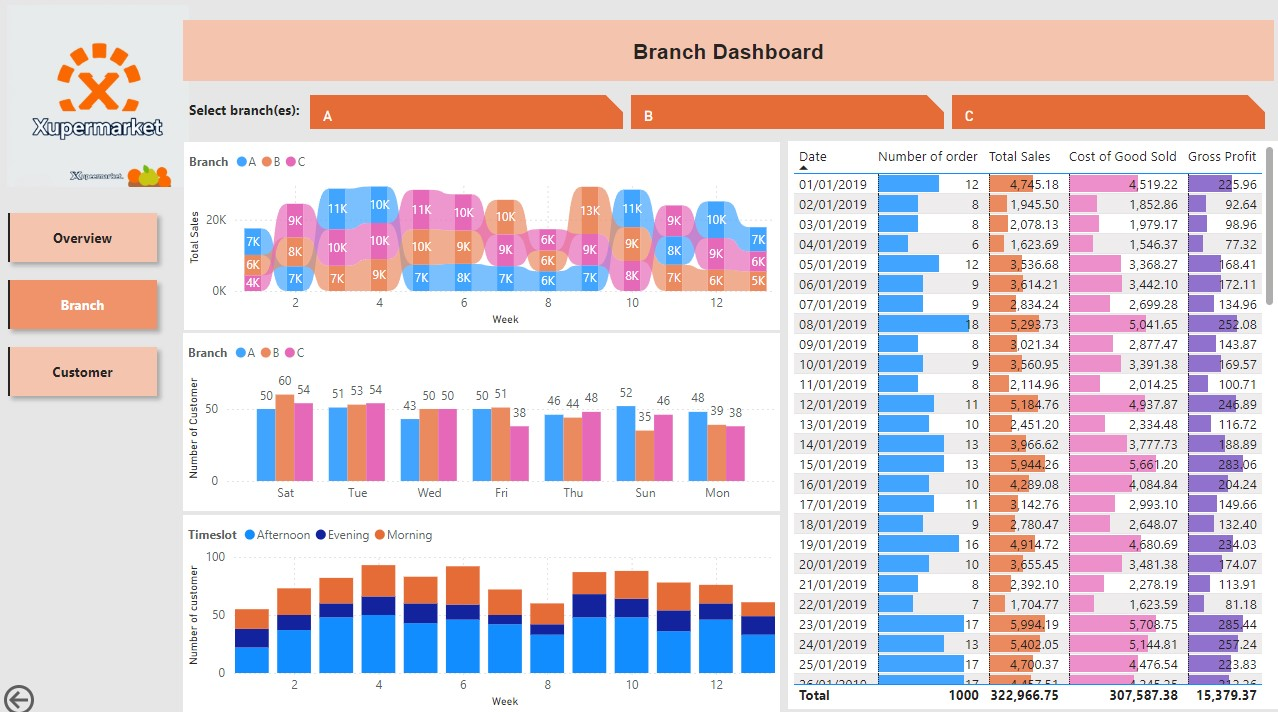

This screenshot's page, from the dashboard's own definition file:
{"tool":"powerbi","page":{"name":"Branch","canvas":[1280,720],"ordinal":1},"visuals":[{"type":"actionButton","box":[0,680.1,99.7,39.9],"z":0},{"type":"pageNavigator","box":[0,204,166.5,202.9],"z":1},{"type":"image","box":[0,0,198.2,192.3],"z":2},{"type":"advancedSlicerVisual","fields":{"Values":["transformed_data_csv.branch"]},"box":[306.1,90.3,966.3,43.4],"z":3},{"type":"ribbonChart","fields":{"Category":["transformed_data_csv.week_number"],"Y":["Sum(transformed_data_csv.total)"],"Series":["transformed_data_csv.branch"]},"box":[185.3,141.9,595.7,187.6],"z":4},{"type":"columnChart","fields":{"Category":["transformed_data_csv.week_number"],"Y":["CountNonNull(transformed_data_csv.gender)"],"Series":["transformed_data_csv.timeslot"]},"box":[184.1,514.8,596.9,197],"z":5},{"type":"textbox","box":[184.1,19.9,1090.6,61],"z":6},{"type":"tableEx","fields":{"Values":["transformed_data_csv.date","transformed_data_csv.invoice_id","Sum(transformed_data_csv.total)","Sum(transformed_data_csv.costs_of_goods_sold)","Sum(transformed_data_csv.gross_income)"]},"box":[788.7,140.7,491.3,568.7],"z":7},{"type":"clusteredColumnChart","fields":{"Category":["transformed_data_csv.dayofweek"],"Y":["CountNonNull(transformed_data_csv.gender)"],"Series":["transformed_data_csv.branch"]},"box":[184.1,333,596.9,178.2],"z":8},{"type":"textbox","box":[185.3,96.2,191.1,31.7],"z":9}]}

Visuals, with their boxes in screenshot pixels (x1, y1, x2, y2), scaled from the page's 1280x720 canvas onto the 1278x712 screenshot:
actionButton: rect(0, 673, 100, 711)
pageNavigator: rect(0, 202, 166, 402)
image: rect(0, 0, 198, 190)
advancedSlicerVisual - transformed_data_csv.branch: rect(306, 89, 1270, 132)
ribbonChart - transformed_data_csv.week_number x Sum(transformed_data_csv.total): rect(185, 140, 780, 326)
columnChart - transformed_data_csv.week_number x CountNonNull(transformed_data_csv.gender): rect(184, 509, 780, 704)
textbox: rect(184, 20, 1273, 80)
tableEx - transformed_data_csv.date x transformed_data_csv.invoice_id: rect(787, 139, 1277, 702)
clusteredColumnChart - transformed_data_csv.dayofweek x CountNonNull(transformed_data_csv.gender): rect(184, 329, 780, 506)
textbox: rect(185, 95, 376, 126)
